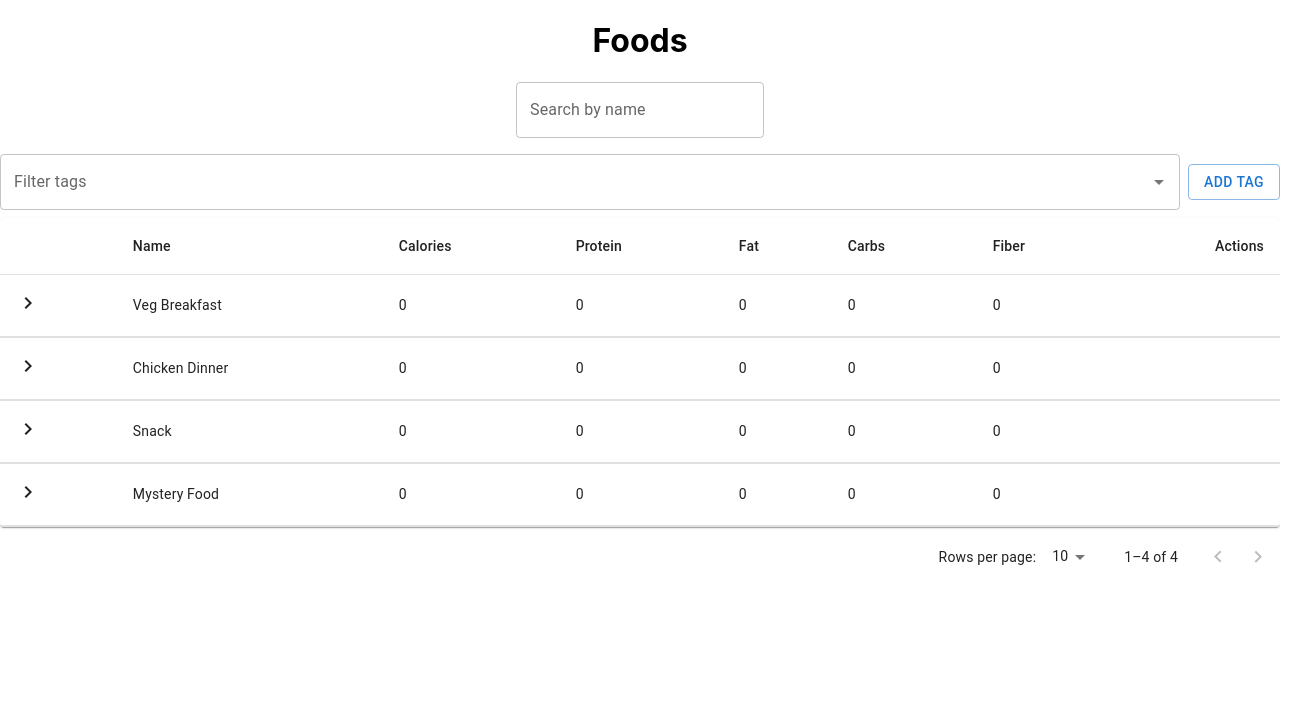
Test: FoodTable tag filtering › filters foods when multiple tags are selected
The width and height of the screenshot is (1292, 720).
Click the dropdown labelled "Filter tags". click: (575, 182)
box: [9, 163, 1141, 201]
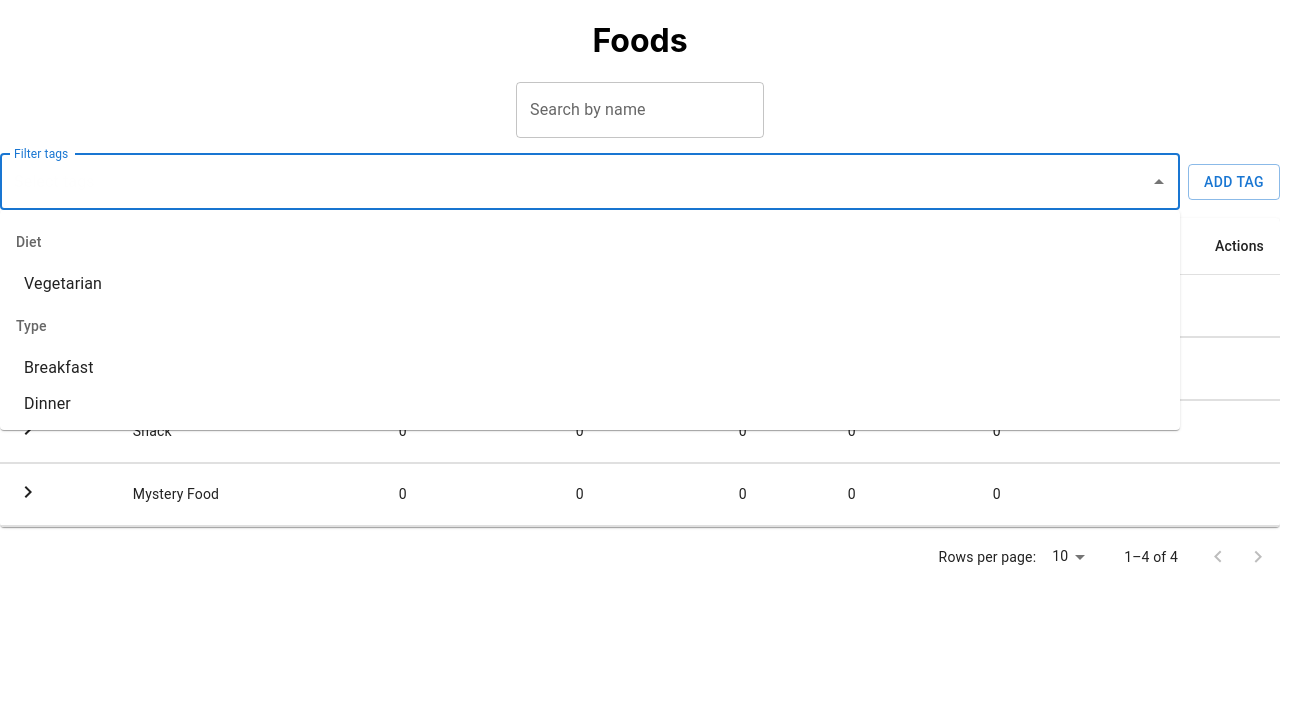
Click the option "Breakfast". click: (59, 368)
box: [24, 358, 94, 377]
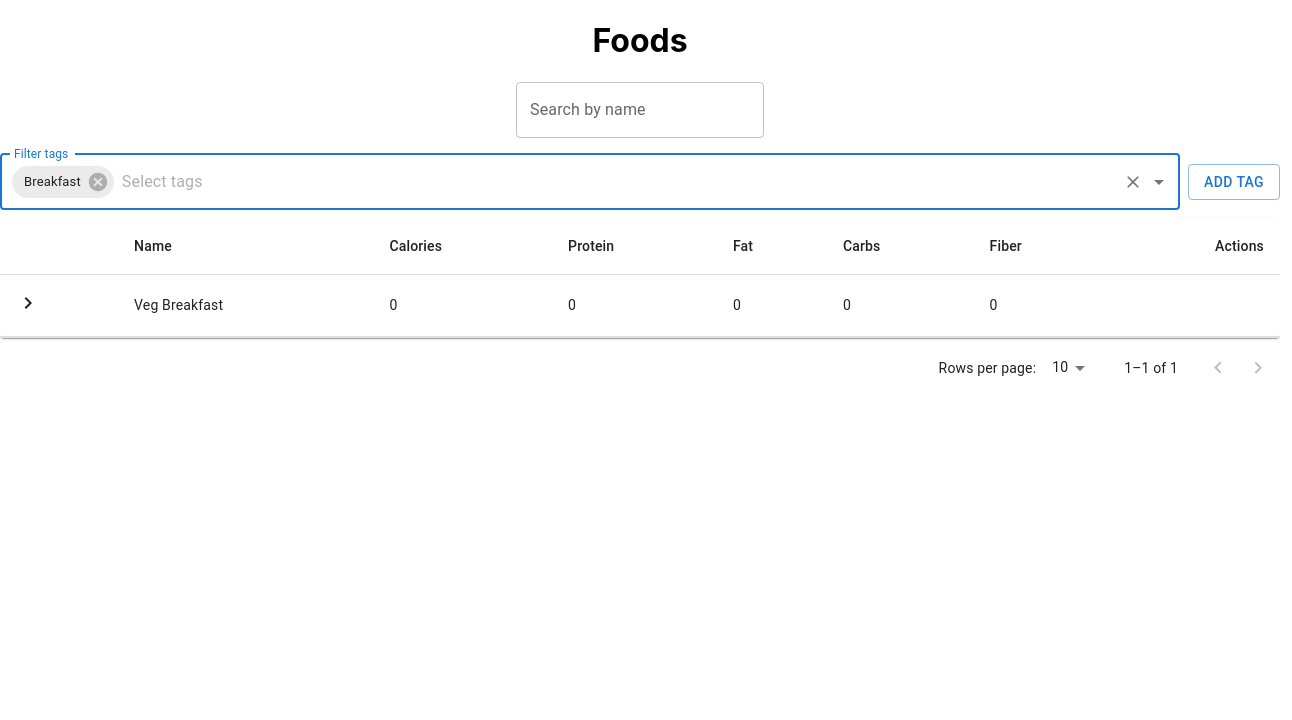
Click the dropdown labelled "Filter tags". click: (616, 182)
box: [117, 163, 1115, 201]
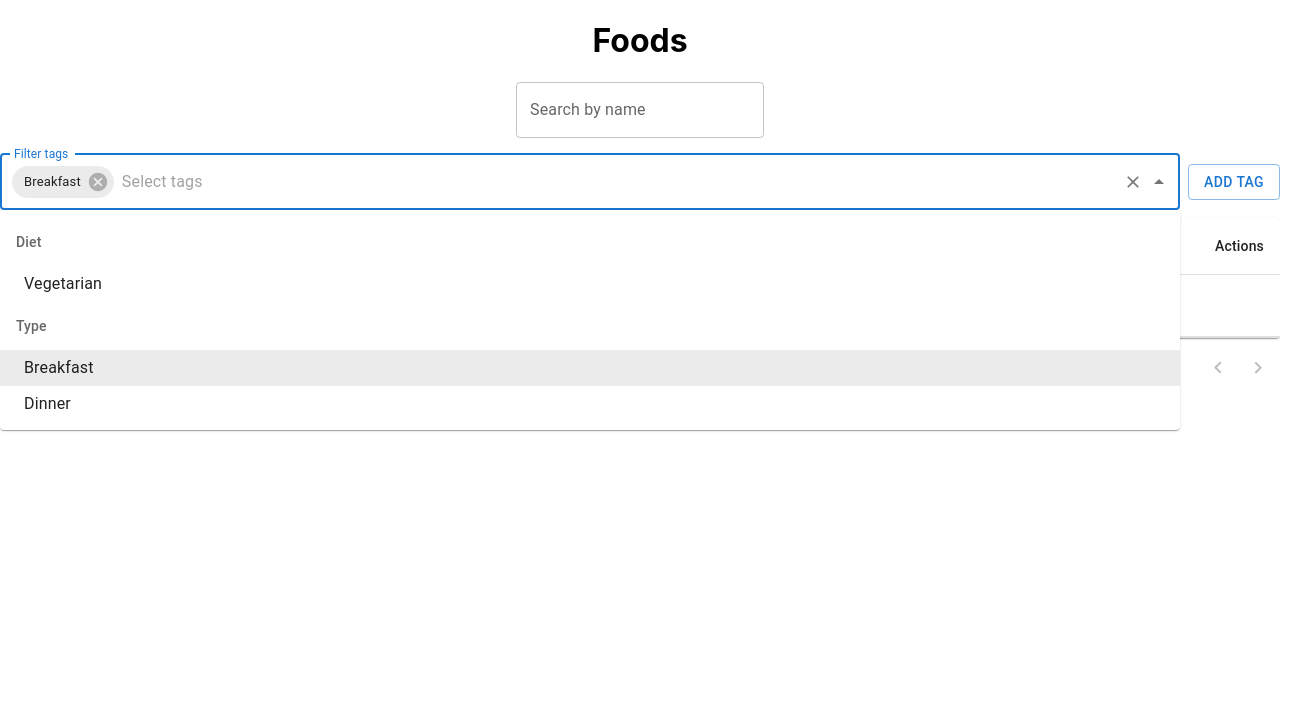
Click the option "Dinner". click: (47, 404)
box: [24, 394, 71, 413]
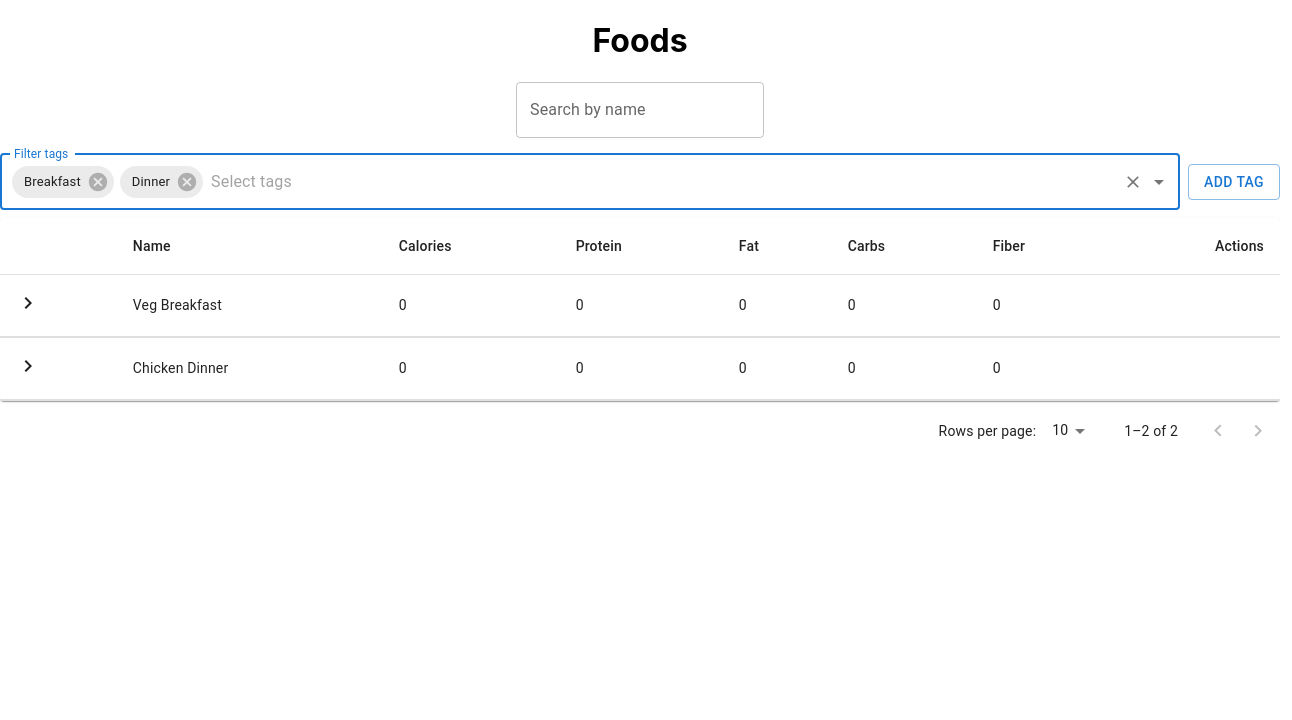
Expected: the text "Veg Breakfast" is shown, [117, 274, 383, 336]
Expected: the text "Chicken Dinner" is shown, [117, 337, 383, 399]
